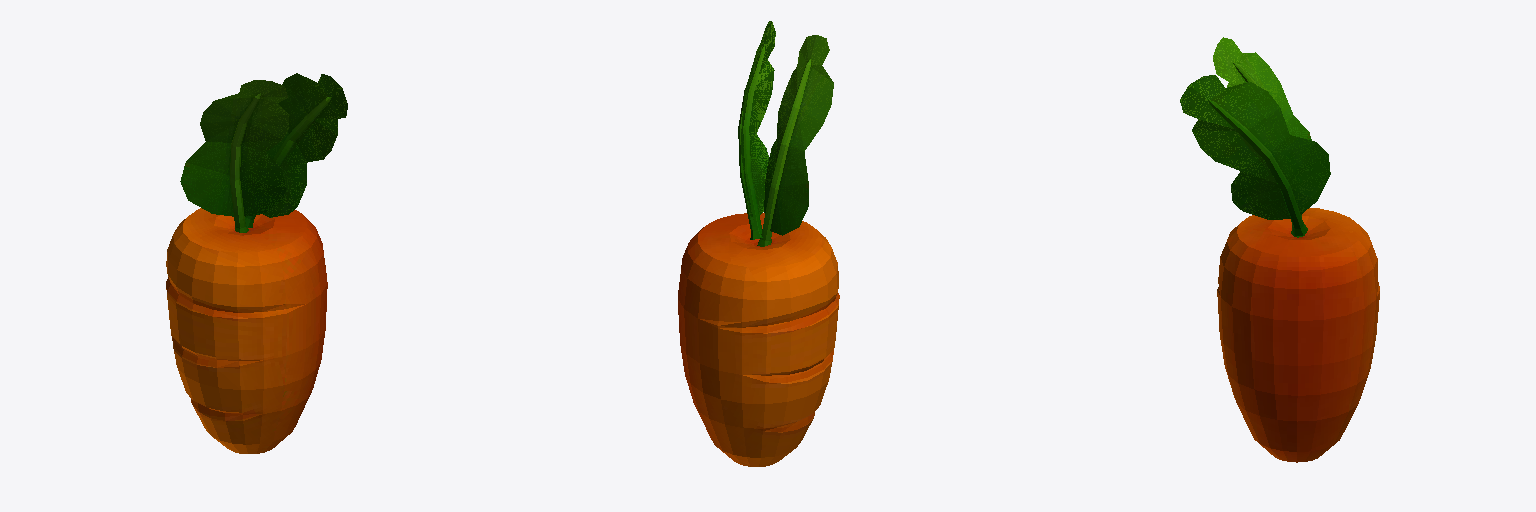
The picture shows the model from 3 angles: view 1: azimuth 30°, elevation 25°; view 2: azimuth 150°, elevation 25°; view 3: azimuth 270°, elevation 25°; orthographic projection.
Parts seen in each view (by area): view 1: Carrot; view 2: Carrot; view 3: Carrot.
Part boxes in pixels (x1,y1,x2,y2): Carrot: (166,73,347,453); Carrot: (678,21,839,466); Carrot: (1180,37,1379,462).
Size of the model in its own units: 0.1179 by 0.3258 by 0.1451.
Materials: 1 (1 with a texture image).